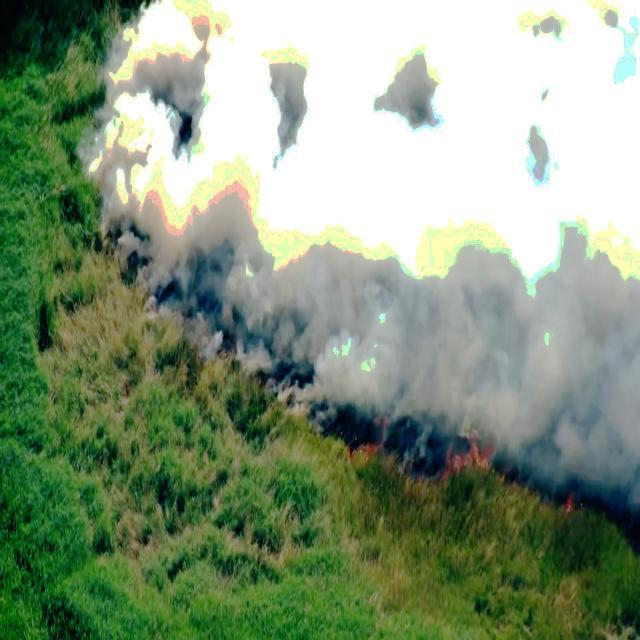Smoke: (222, 215, 640, 433), (101, 12, 223, 274)
